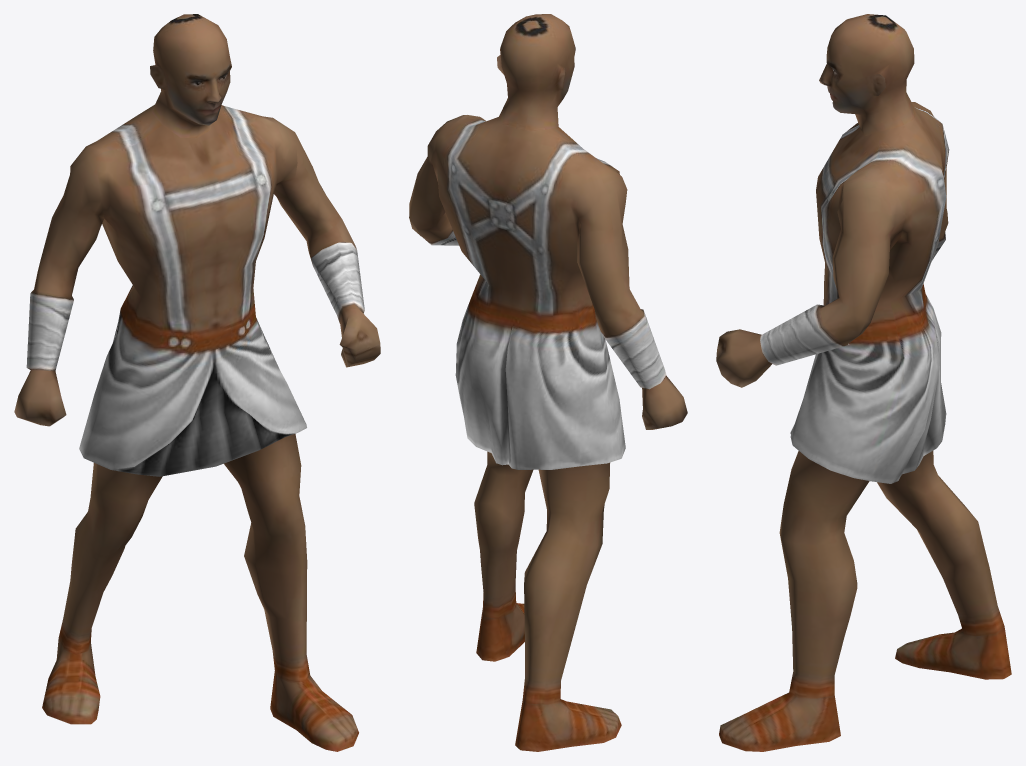
The model's file is body-base.glb.
3 renders of one model, left to right at view 1: azimuth 30°, elevation 25°; view 2: azimuth 150°, elevation 25°; view 3: azimuth 270°, elevation 25°, orthographic. The views are drawn at different scales.
Bounding box in the file's own units: 0.9255 × 2.02 × 0.7907.
Materials: 1 (1 with a texture image).
